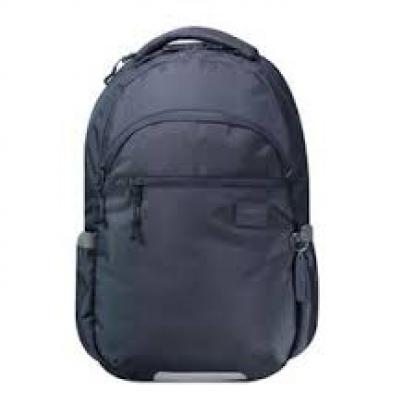morral: (61, 11, 359, 396)
